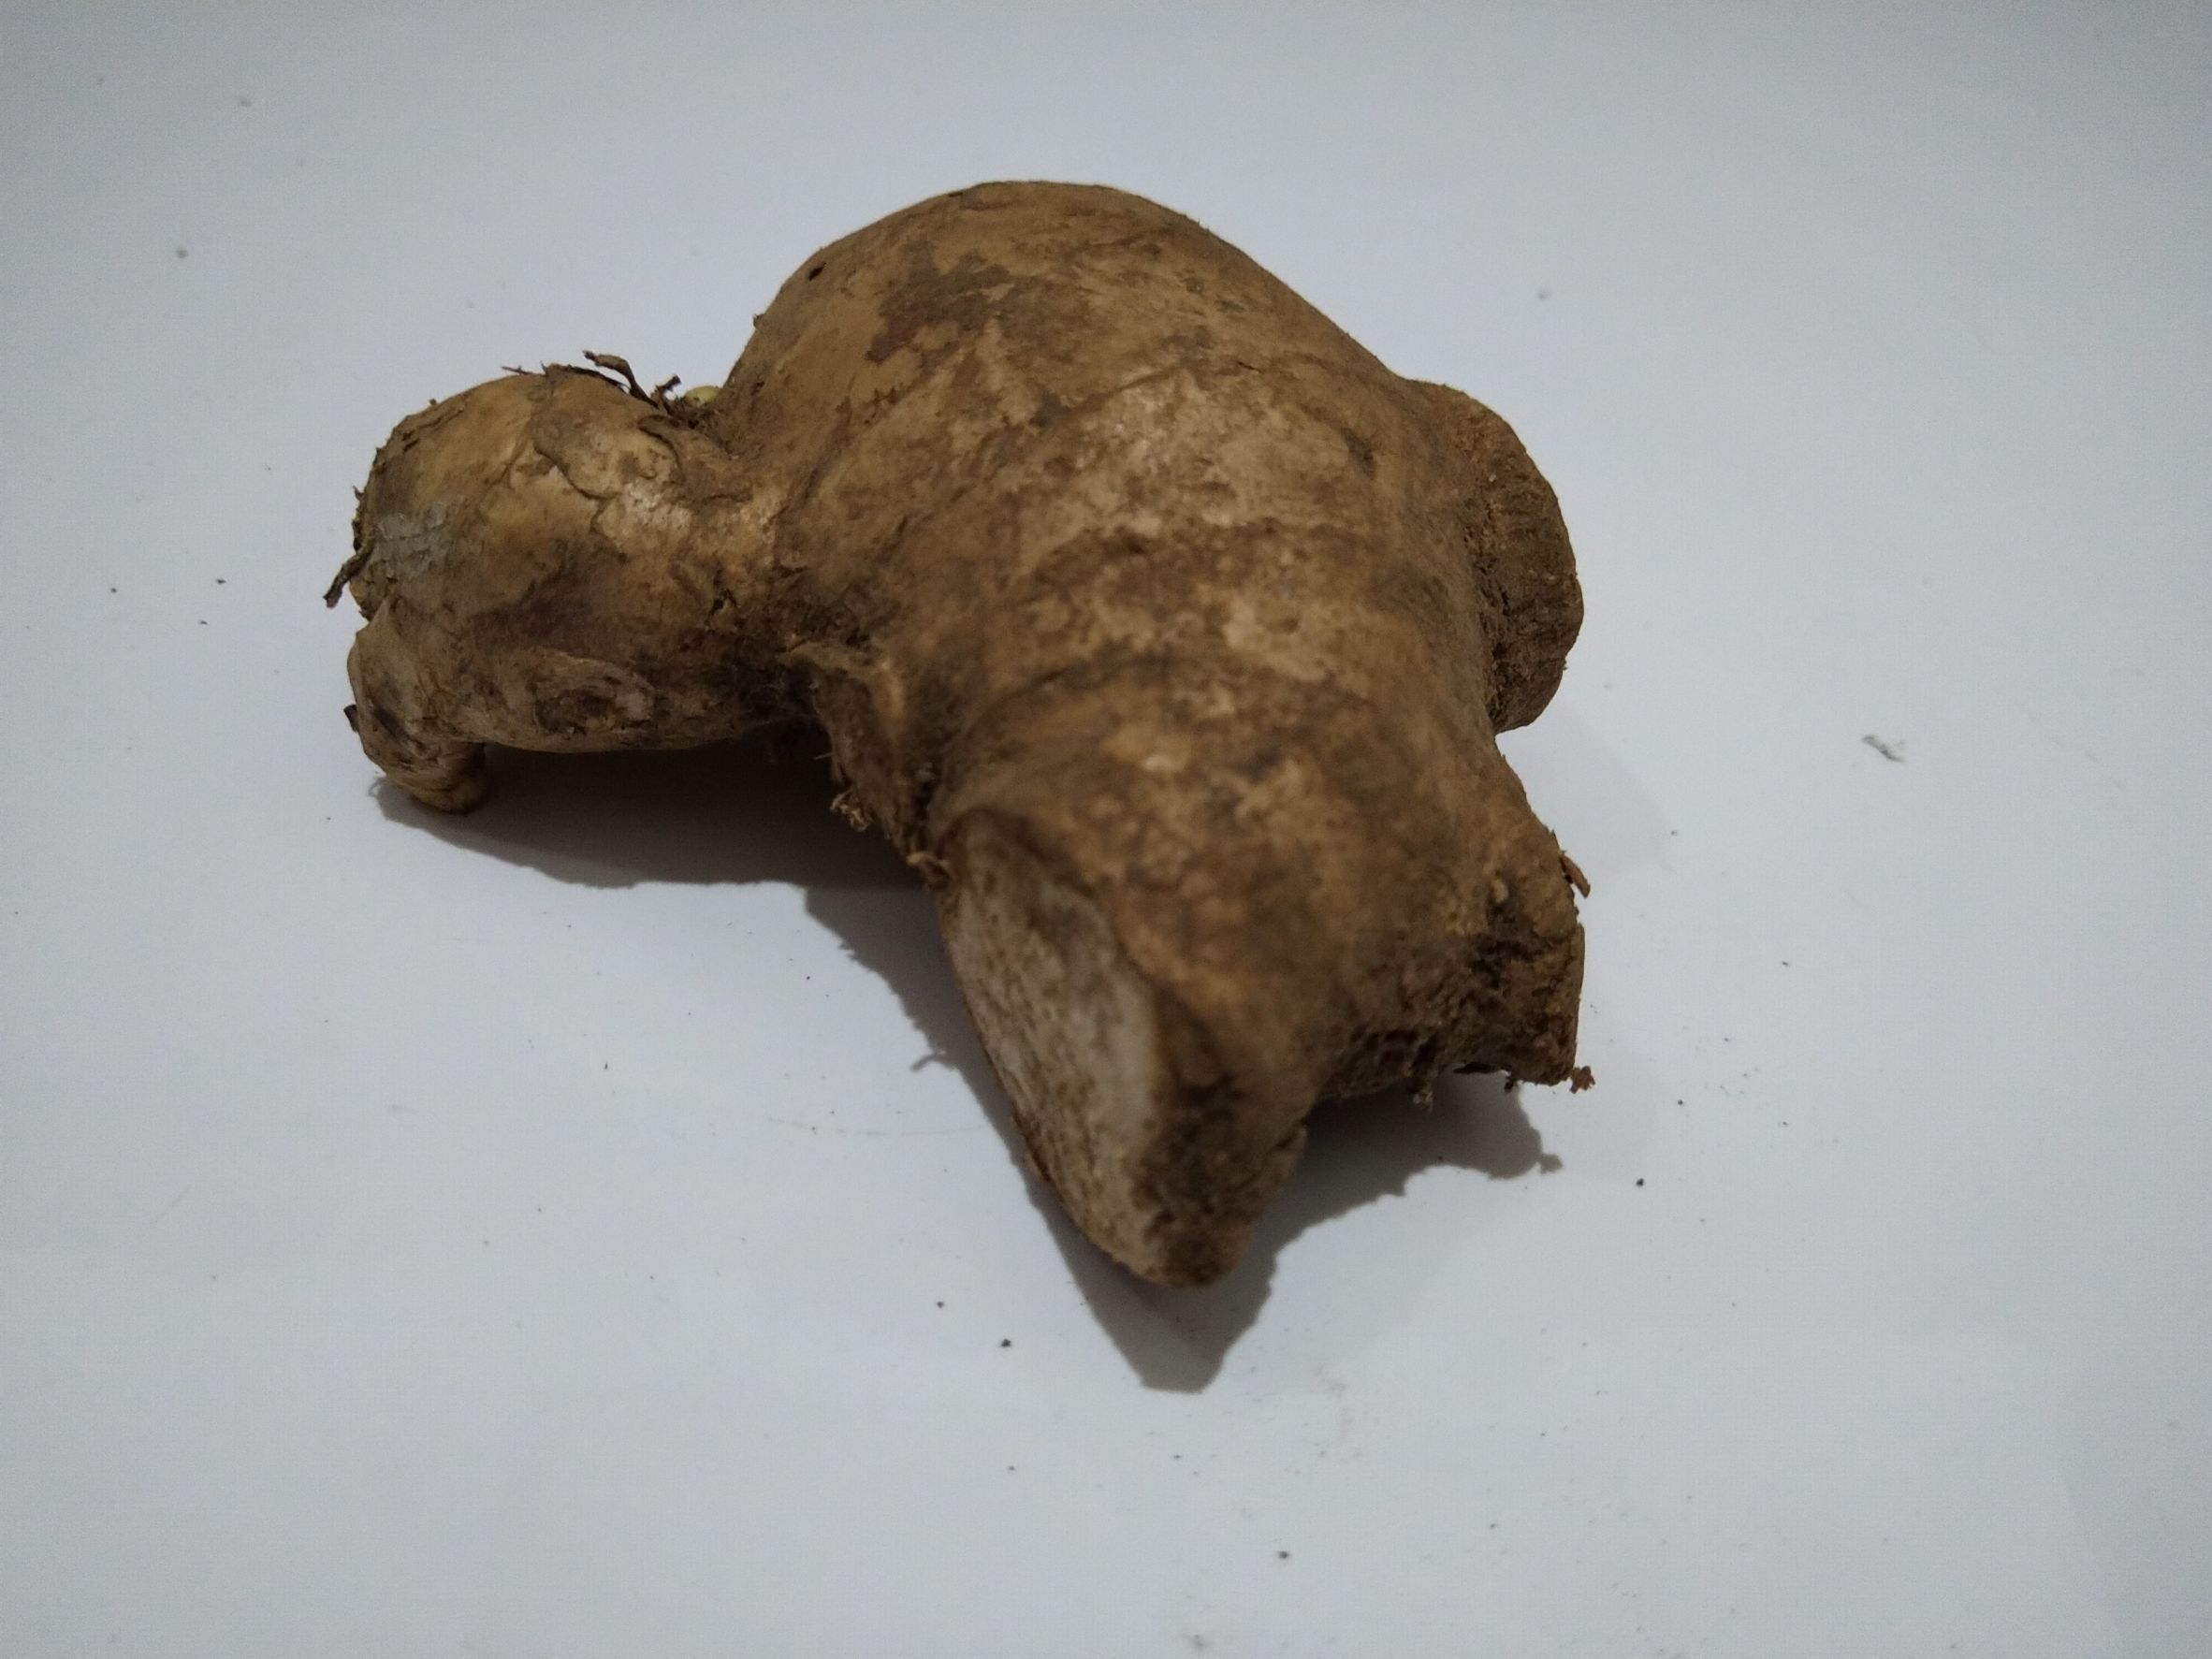Jahe: (322, 199, 1595, 1331)
